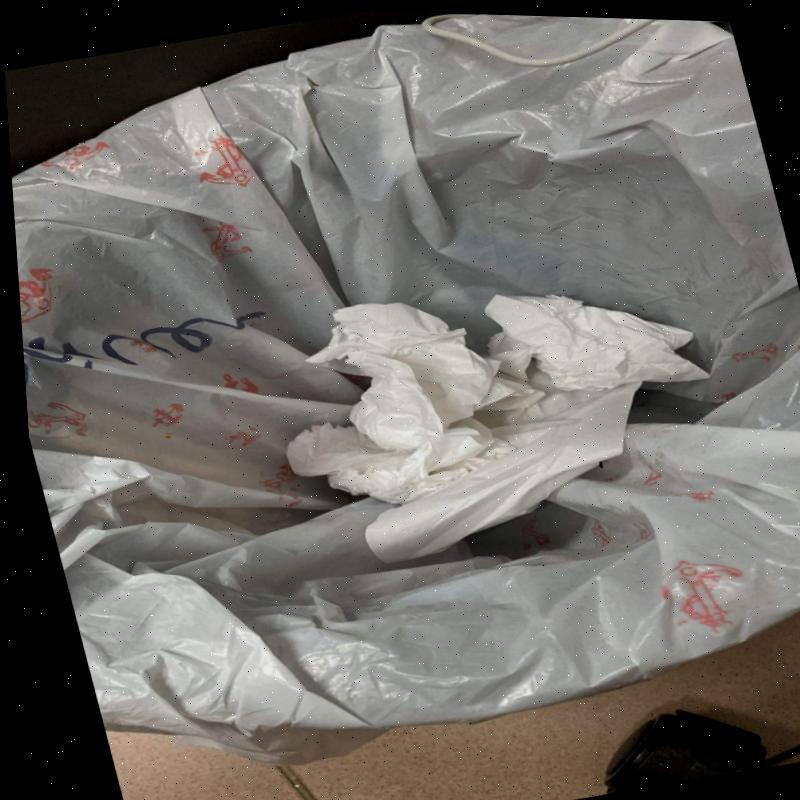paper: (288, 291, 717, 568)
